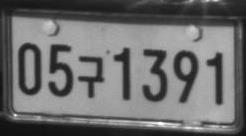0: (16, 41, 41, 95)
1: (110, 46, 137, 100), (204, 51, 229, 104)
3: (141, 48, 168, 102)
5: (48, 44, 73, 97)
9: (172, 49, 198, 102)
구: (77, 55, 105, 98)
